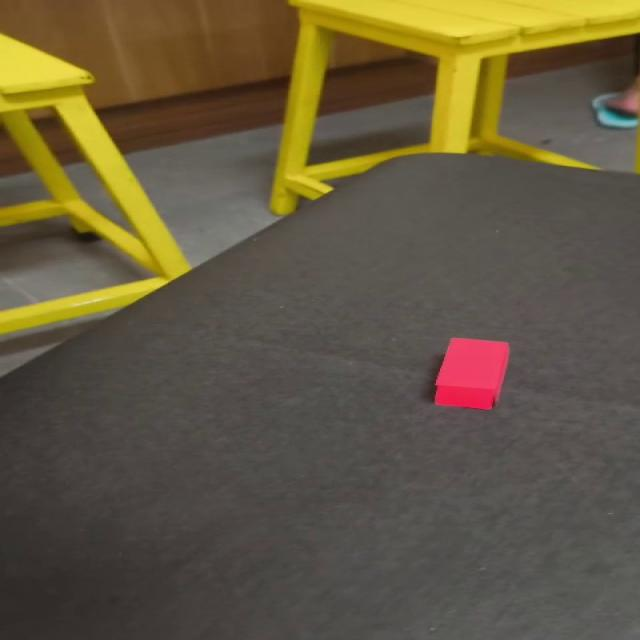red block: (432, 336, 509, 411)
